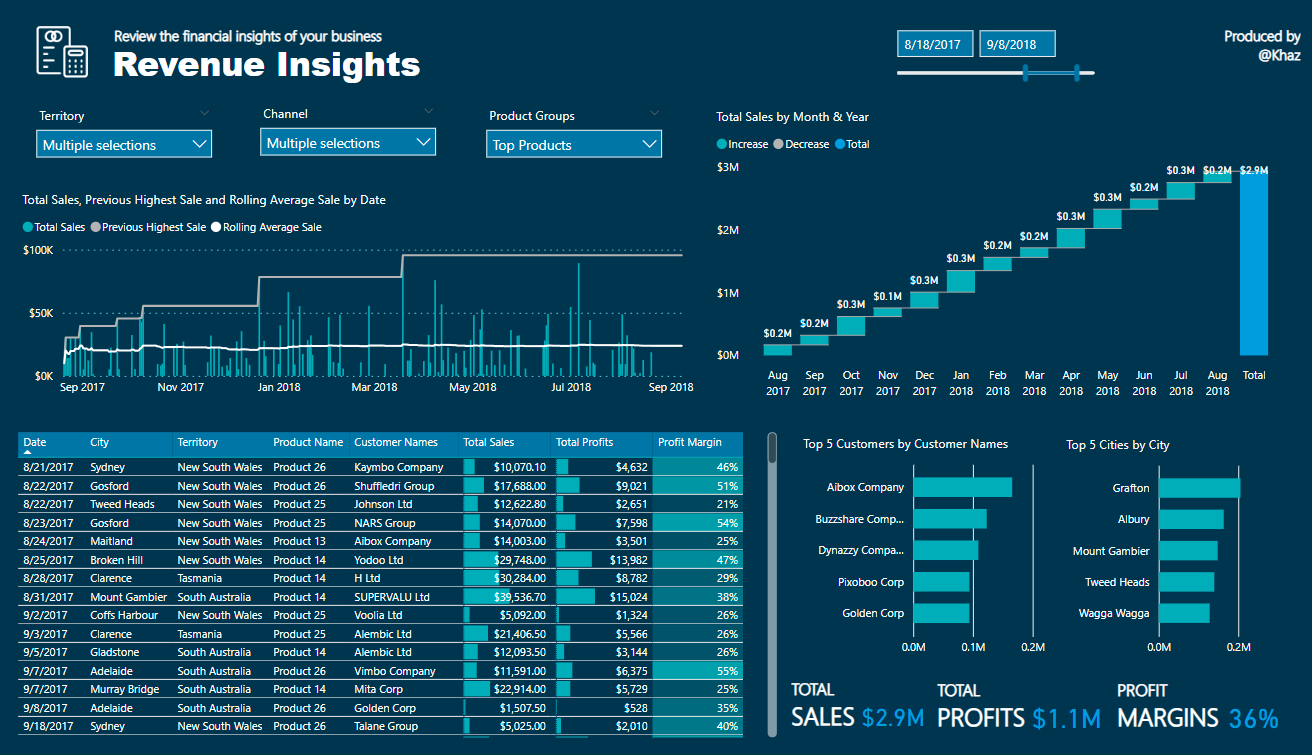

What the dashboard file says about the page in this screenshot:
{"tool":"powerbi","page":{"name":"Revenue Insights","canvas":[1280,720],"ordinal":6},"visuals":[{"type":"textbox","box":[107.6,0,291.5,34.4],"z":0},{"type":"textbox","box":[766.3,633.9,83.4,71.1],"z":1000},{"type":"textbox","box":[105.5,14.5,370.4,60],"z":2000},{"type":"image","box":[18.3,1.1,88.2,60.2],"z":3000},{"type":"textbox","box":[1139,0,133.3,61.3],"z":4000},{"type":"lineStackedColumnComboChart","fields":{"Category":["Dates.Date"],"Y":["Key Measures.Total Sales"],"Y2":["Key Measures.Previous Highest Sale","Key Measures.Rolling Average Sale"]},"box":[18.4,166.7,675.6,208.4],"z":6000},{"type":"waterfallChart","fields":{"Category":["Dates.Month & Year"],"Y":["Key Measures.Total Sales"]},"box":[693.9,85.8,561.5,289.3],"z":7000},{"type":"tableEx","fields":{"Values":["Dates.Date","Regions.City","Regions.Territory","Products.Product Name","Customers.Customer Names","Key Measures.Total Sales","Key Measures.Total Profits","Key Measures.Profit Margin"]},"box":[13.5,396,749.1,306.5],"z":8000},{"type":"slicer","fields":{"Values":["Regions.Territory"]},"box":[27,78.5,191.3,68.7],"z":9000},{"type":"slicer","fields":{"Values":["Dates.Date.Variation.Date Hierarchy.Year"]},"box":[861.9,0,218.2,71.1],"z":10000},{"type":"slicer","fields":{"Values":["Sales.Channel"]},"box":[245.2,77.2,191.3,68.7],"z":11000},{"type":"slicer","fields":{"Values":["Products.Product Groups"]},"box":[464.7,78.5,191.3,68.7],"z":12000},{"type":"barChart","fields":{"Category":["Regions.City"],"Y":["Key Measures.Top 5 Cities"]},"box":[1033.6,404.6,228,223.1],"z":13000},{"type":"barChart","fields":{"Category":["Customers.Customer Names"],"Y":["Key Measures.Top 5 Customers"]},"box":[778.5,403.4,245.2,224.4],"z":14000},{"type":"card","fields":{"Values":["Key Measures.Total Sales"]},"box":[821.5,648.6,98.1,57.6],"z":15000},{"type":"card","fields":{"Values":["Key Measures.Total Profits"]},"box":[995.6,648.6,87,57.6],"z":16000},{"type":"textbox","box":[908.5,635.1,115.2,63.8],"z":17000},{"type":"textbox","box":[1083.8,635.1,118.9,63.8],"z":18000},{"type":"card","fields":{"Values":["Key Measures.Profit Margin"]},"box":[1184.4,648.6,73.6,57.6],"z":19000}]}

Visuals, with their boxes in screenshot pixels (x1, y1, x2, y2), scaled from the page's 1280x720 canvas onto the 1312x755 screenshot:
textbox: x1=110 y1=0 x2=409 y2=36
textbox: x1=785 y1=665 x2=871 y2=739
textbox: x1=108 y1=15 x2=488 y2=78
image: x1=19 y1=1 x2=109 y2=64
textbox: x1=1167 y1=0 x2=1304 y2=64
lineStackedColumnComboChart - Dates.Date x Key Measures.Total Sales: x1=19 y1=175 x2=711 y2=393
waterfallChart - Dates.Month & Year x Key Measures.Total Sales: x1=711 y1=90 x2=1287 y2=393
tableEx - Dates.Date x Regions.City: x1=14 y1=415 x2=782 y2=737
slicer - Regions.Territory: x1=28 y1=82 x2=224 y2=154
slicer - Dates.Date.Variation.Date Hierarchy.Year: x1=883 y1=0 x2=1107 y2=75
slicer - Sales.Channel: x1=251 y1=81 x2=447 y2=153
slicer - Products.Product Groups: x1=476 y1=82 x2=672 y2=154
barChart - Regions.City x Key Measures.Top 5 Cities: x1=1059 y1=424 x2=1293 y2=658
barChart - Customers.Customer Names x Key Measures.Top 5 Customers: x1=798 y1=423 x2=1049 y2=658
card - Key Measures.Total Sales: x1=842 y1=680 x2=943 y2=741
card - Key Measures.Total Profits: x1=1020 y1=680 x2=1110 y2=741
textbox: x1=931 y1=666 x2=1049 y2=733
textbox: x1=1111 y1=666 x2=1233 y2=733
card - Key Measures.Profit Margin: x1=1214 y1=680 x2=1289 y2=741
